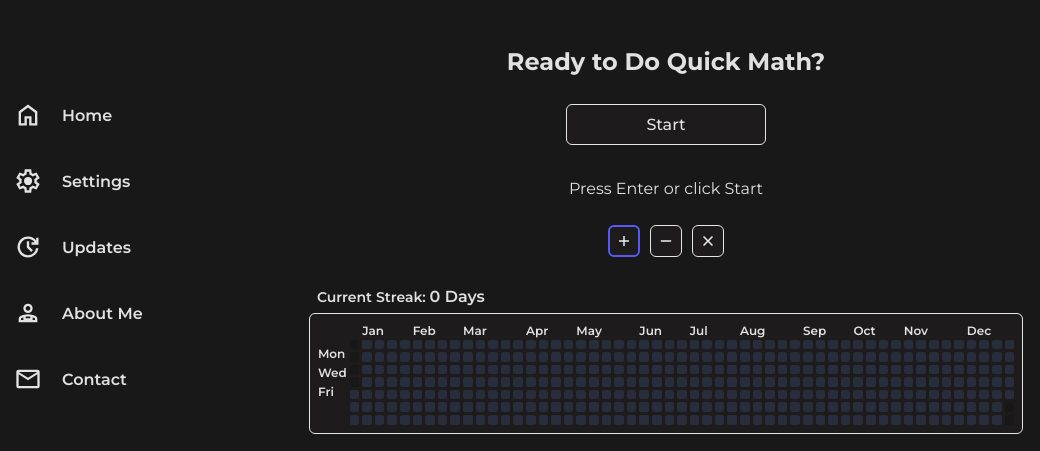
it: Calculation panel indicator updates after answers › Marks first question as incorrect when a wrong answer is submitted
The image size is (1040, 451).
Click the button "Start": (666, 124) top-left (566, 104), bottom-right (766, 144)
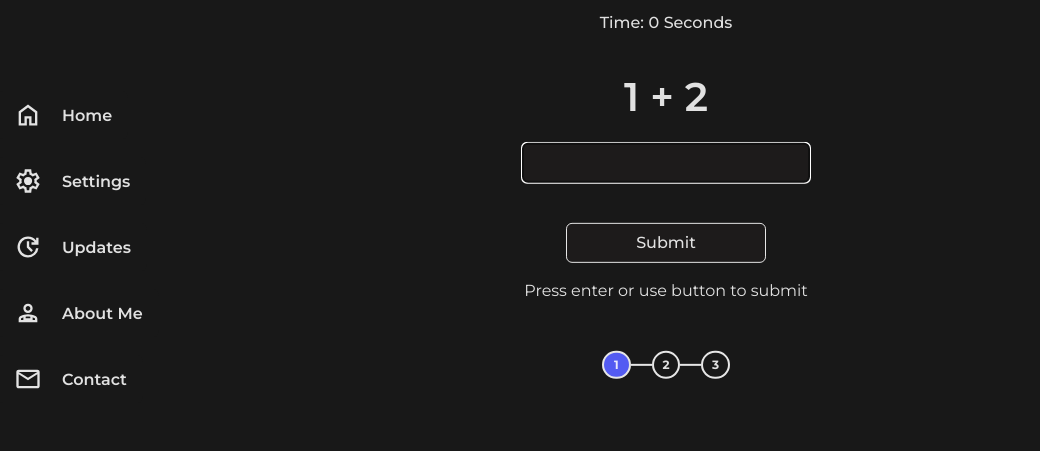
In the field named "answer-input": (666, 162) top-left (522, 142), bottom-right (810, 182), type "0"
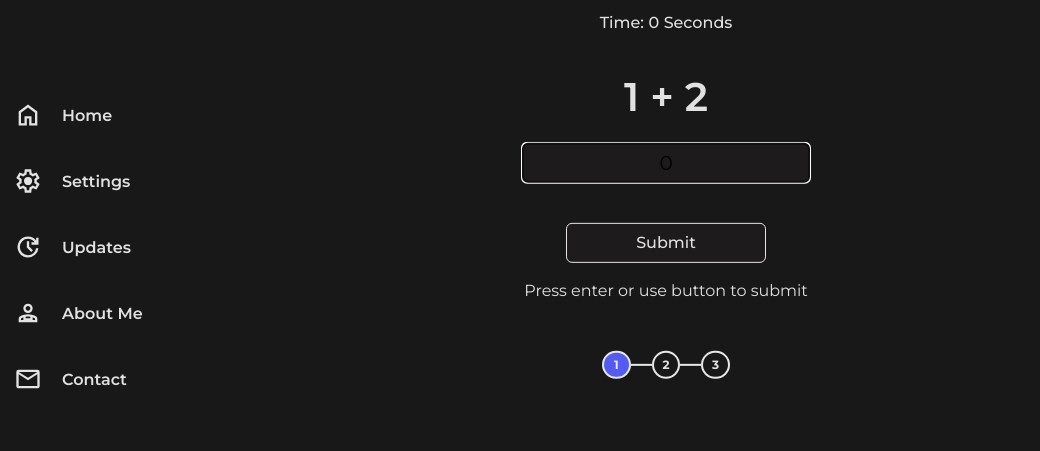
Click the button "Submit": (666, 242) top-left (566, 222), bottom-right (766, 263)
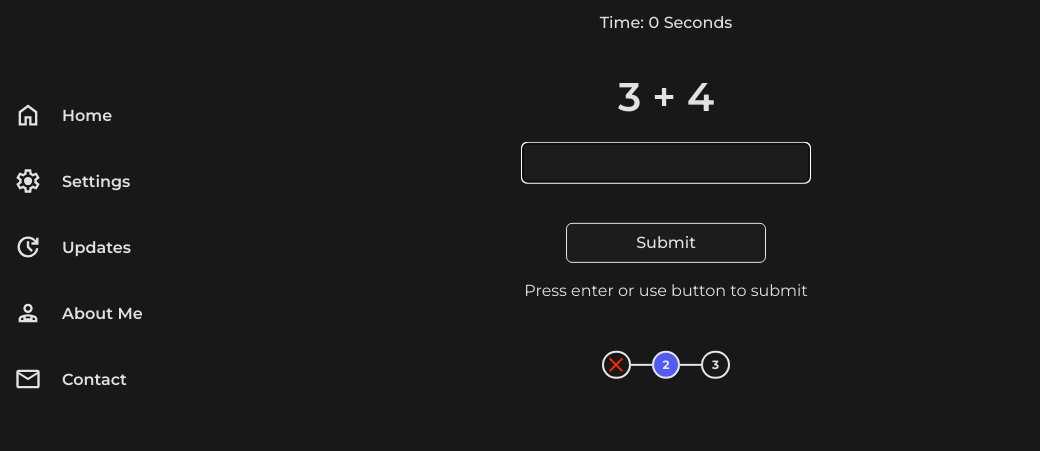
Expected: the text "2" is shown, top-left (662, 356), bottom-right (670, 374)
Expected: the text "3" is shown, top-left (712, 356), bottom-right (719, 374)
Expected: the picture named "Incorrect Question" is shown, top-left (604, 353), bottom-right (628, 377)
